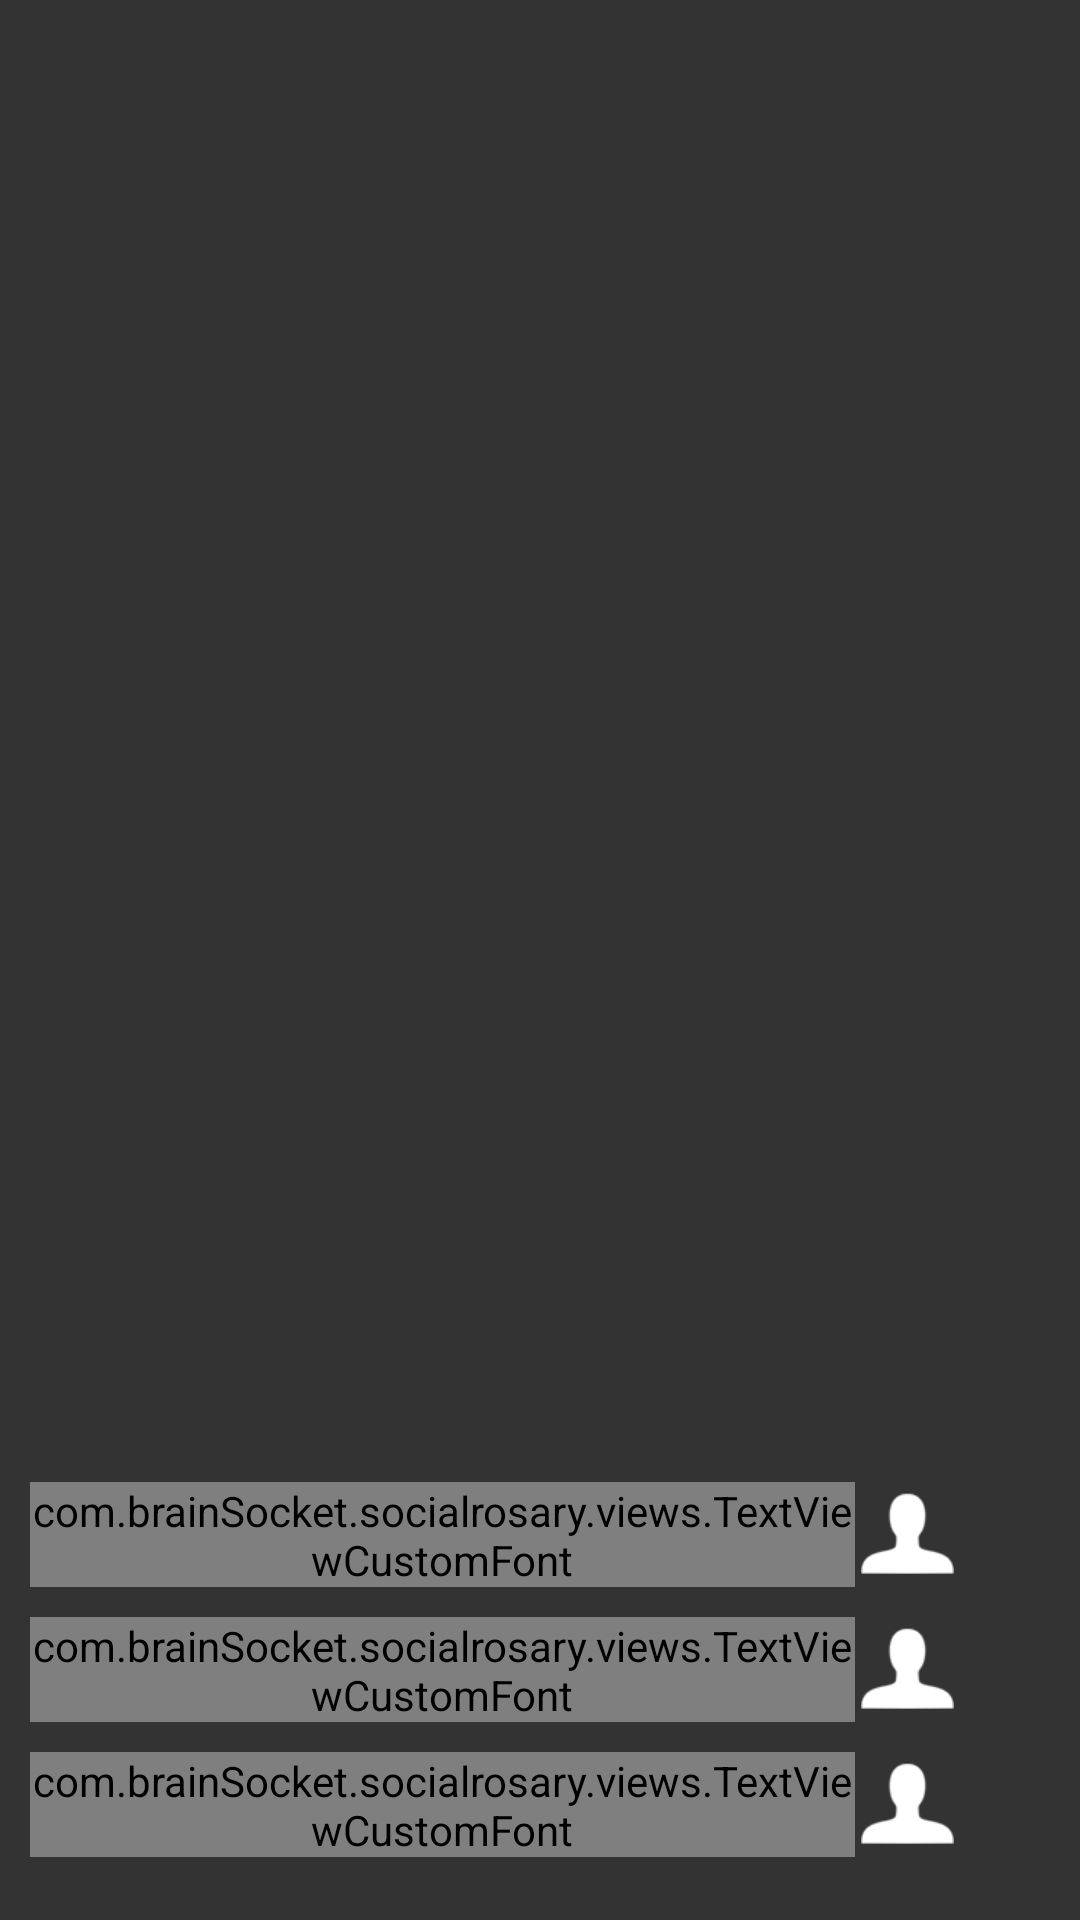

Icons on this 1080w x 1920h Android screen, each with the point to tap as [x,y]:
friends: [907,1533], [907,1668], [907,1803]
